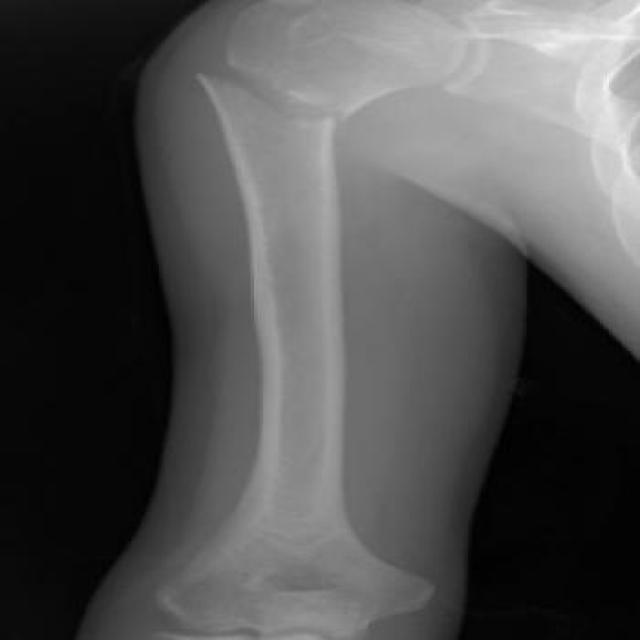Fracture: (165, 51, 370, 134)
